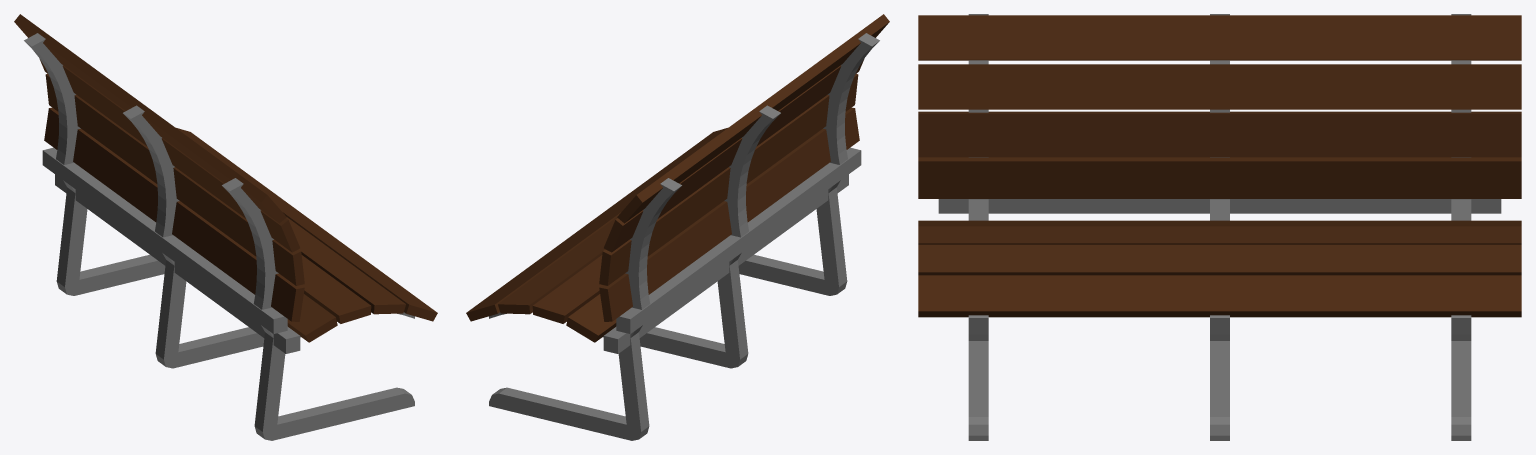
File: Parkbank.fbx
3 views of the same model, side by side, from view 1: azimuth 30°, elevation 25°; view 2: azimuth 150°, elevation 25°; view 3: azimuth 270°, elevation 25° (orthographic). The views are drawn at different scales.
Visible parts, largest first — view 1: Cube.001, Cube, Cube.003, Cube.008, Cube.007, Cube.005, Cube.004; view 2: Cube.001, Cube, Cube.003, Cube.008, Cube.007, Cube.005, Cube.004; view 3: Cube.001, Cube, Cube.005, Cube.008, Cube.006, Cube.002, Cube.003.
Part boxes in pixels (x1,y1,x2,y2): Cube.001: (14,14,304,321); Cube: (176,128,437,342); Cube.003: (24,33,278,309); Cube.008: (77,254,414,439); Cube.007: (56,187,285,440); Cube.005: (42,147,287,333); Cube.004: (55,174,300,353); Cube.001: (599,14,889,321); Cube: (466,128,727,342); Cube.003: (625,33,879,309); Cube.008: (489,254,826,439); Cube.007: (618,187,847,440); Cube.005: (616,147,861,333); Cube.004: (603,174,848,353); Cube.001: (918,15,1521,198); Cube: (918,220,1521,317); Cube.005: (938,199,1501,213); Cube.008: (968,341,1471,440); Cube.006: (968,199,1471,220); Cube.002: (968,315,1471,334); Cube.003: (968,14,1471,157).
Bounding box in the file's own units: 263 × 358 × 600.
